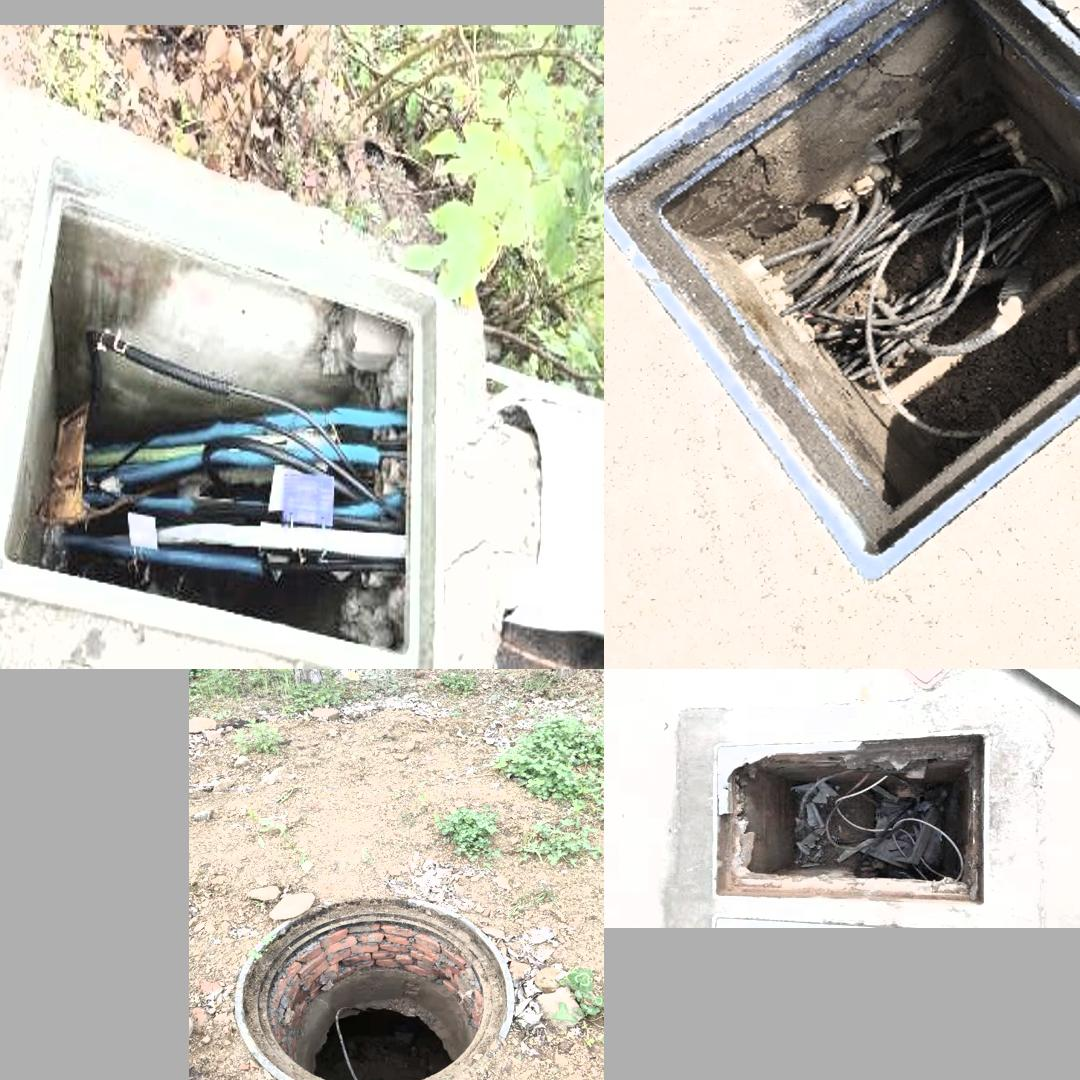lose: (604, 0, 1080, 583), (0, 145, 445, 669), (231, 896, 512, 1080), (711, 729, 990, 909)
